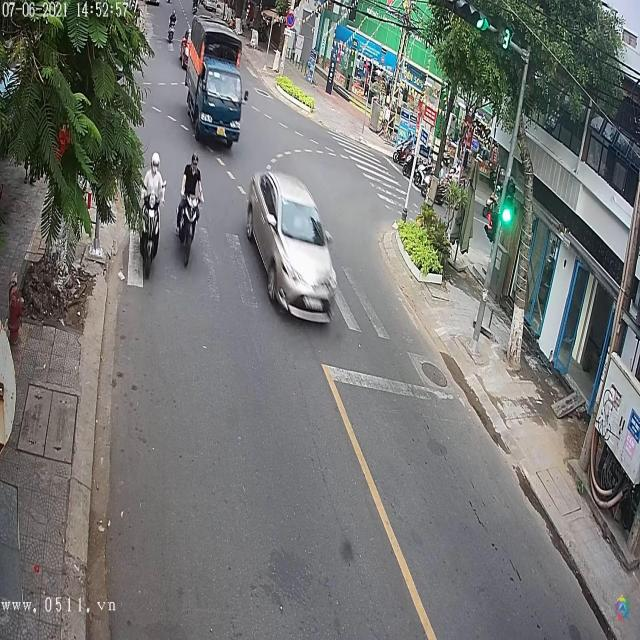car: (246, 169, 338, 323)
motorcycle: (135, 181, 166, 280), (176, 182, 202, 266)
truck: (184, 16, 247, 148)
